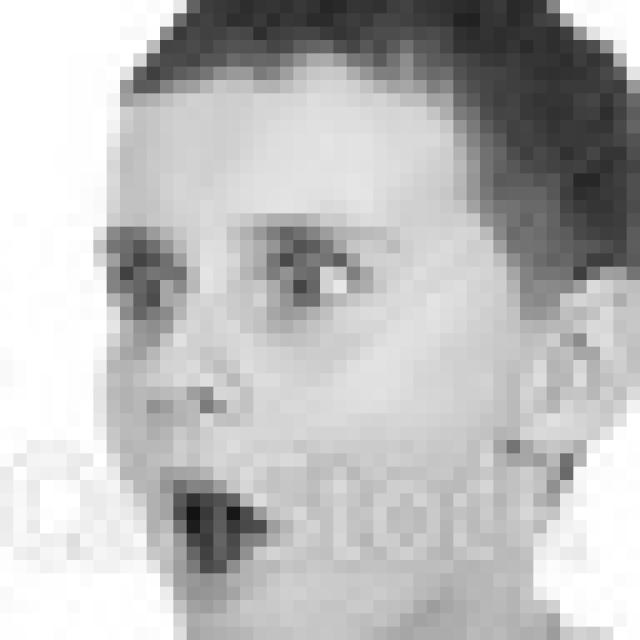surprise: (100, 215, 412, 607)
